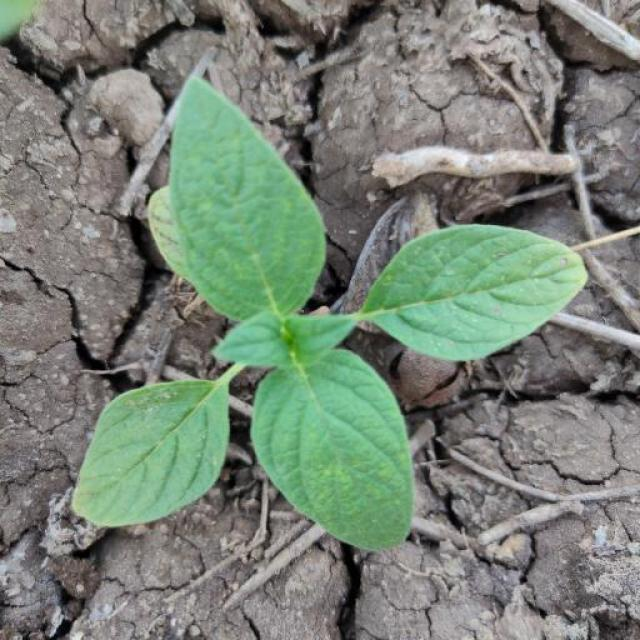crop: (46, 63, 604, 545)
